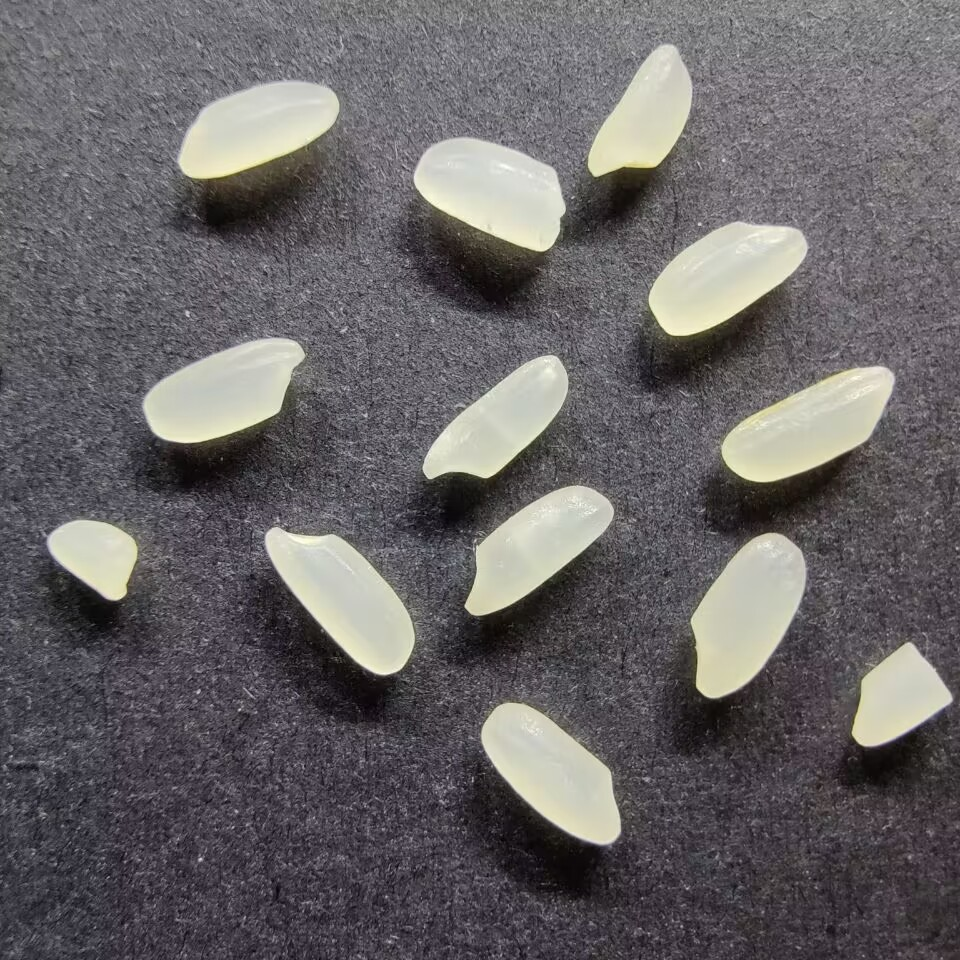broken: (848, 641, 953, 748), (43, 516, 138, 604)
rice: (263, 524, 417, 679), (718, 364, 896, 483), (478, 700, 623, 846), (461, 484, 616, 617), (689, 531, 809, 699), (418, 353, 570, 482), (647, 219, 810, 336), (141, 335, 307, 444), (412, 137, 567, 253), (175, 79, 340, 182), (586, 43, 694, 177)
